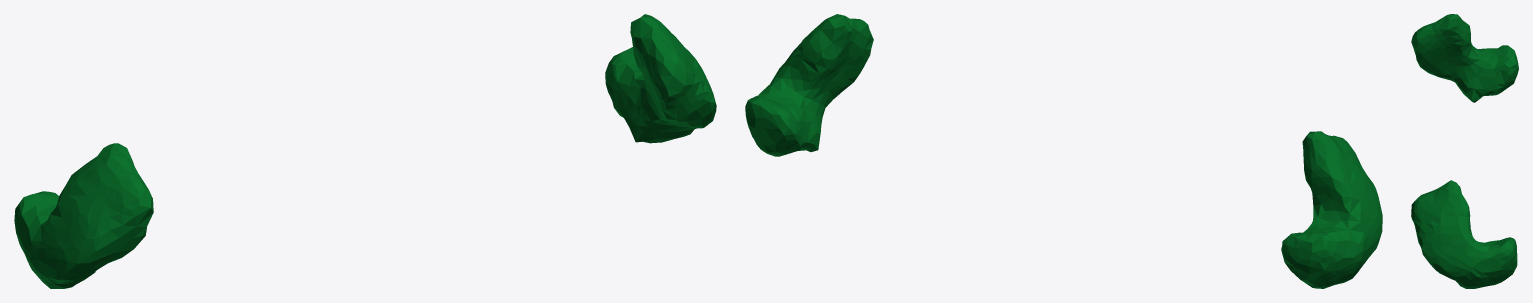
The model's file is 63-DI-dysgranular insular cortex-('0.0000', '0.4980', '0.1686').obj.
3 renders of one model, left to right at view 1: azimuth 30°, elevation 25°; view 2: azimuth 150°, elevation 25°; view 3: azimuth 270°, elevation 25°, orthographic. The views are drawn at different scales.
Bounding box in the file's own units: 278 × 58.09 × 60.04.
